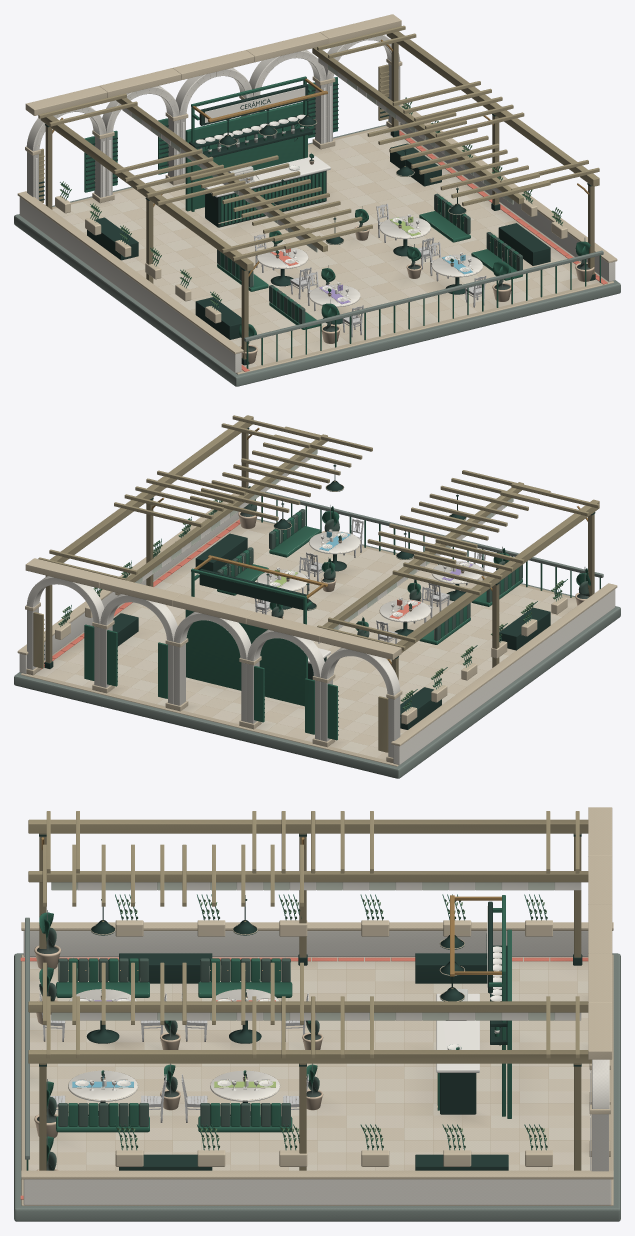
Rendered from restaurant.glb.
3 renders of one model, top to bottom at view 1: azimuth 30°, elevation 25°; view 2: azimuth 150°, elevation 25°; view 3: azimuth 270°, elevation 25°, orthographic. The views are drawn at different scales.
Visible parts, largest first — view 1: Bistro · stone, Bistro · oak, Bistro · paint, Bistro · glaze, Bistro · linen, Bistro · green, Bistro · metal, painted_wooden_chair_01; view 2: Bistro · stone, Bistro · oak, Bistro · paint, Bistro · linen, Bistro · glaze, Bistro · green, painted_wooden_chair_01, Bistro · metal; view 3: Bistro · stone, Bistro · oak, Bistro · linen, Bistro · glaze, Bistro · paint, Bistro · green, Bistro · metal, painted_wooden_chair_01.
Part boxes in pixels (x1,y1,x2,y2): Bistro · stone: (14,14,620,386); Bistro · oak: (38,25,599,359); Bistro · paint: (39,76,603,368); Bistro · glaze: (55,87,594,363); Bistro · linen: (122,58,522,329); Bistro · green: (60,97,590,343); Bistro · metal: (45,74,595,365); painted_wooden_chair_01: (254,203,486,337); Bistro · stone: (14,493,620,778); Bistro · oak: (33,415,599,752); Bistro · paint: (44,484,603,740); Bistro · linen: (135,449,522,644); Bistro · glaze: (55,512,586,724); Bistro · green: (58,486,590,711); painted_wooden_chair_01: (254,518,485,643); Bistro · metal: (44,428,595,668); Bistro · stone: (14,807,620,1221); Bistro · oak: (28,811,591,1170); Bistro · linen: (51,882,581,1132); Bistro · glaze: (34,906,552,1170); Bistro · paint: (25,895,511,1170); Bistro · green: (39,894,547,1170); Bistro · metal: (39,834,582,1115); painted_wooden_chair_01: (39,993,308,1122).
Size of the model in its own units: 12.6 by 3.79 by 12.6.
11 materials, 10 textured.
